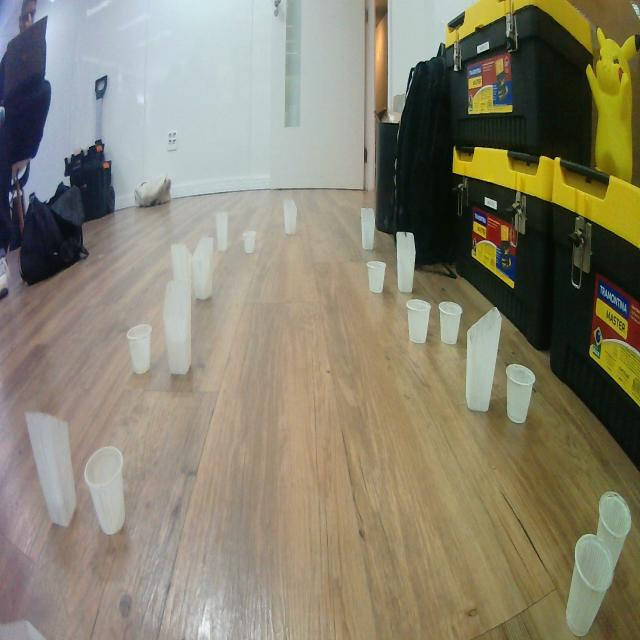erva_daninha: (25, 408, 77, 528), (466, 306, 502, 413), (163, 279, 192, 376), (191, 237, 214, 300), (396, 230, 416, 294), (170, 240, 193, 286), (360, 208, 376, 252), (215, 210, 229, 252), (283, 200, 298, 235)
planta: (566, 533, 614, 638), (84, 445, 126, 536), (596, 490, 632, 575), (505, 363, 536, 425), (127, 323, 153, 374), (406, 299, 432, 344), (438, 300, 464, 345), (366, 260, 386, 294), (242, 231, 256, 254)
